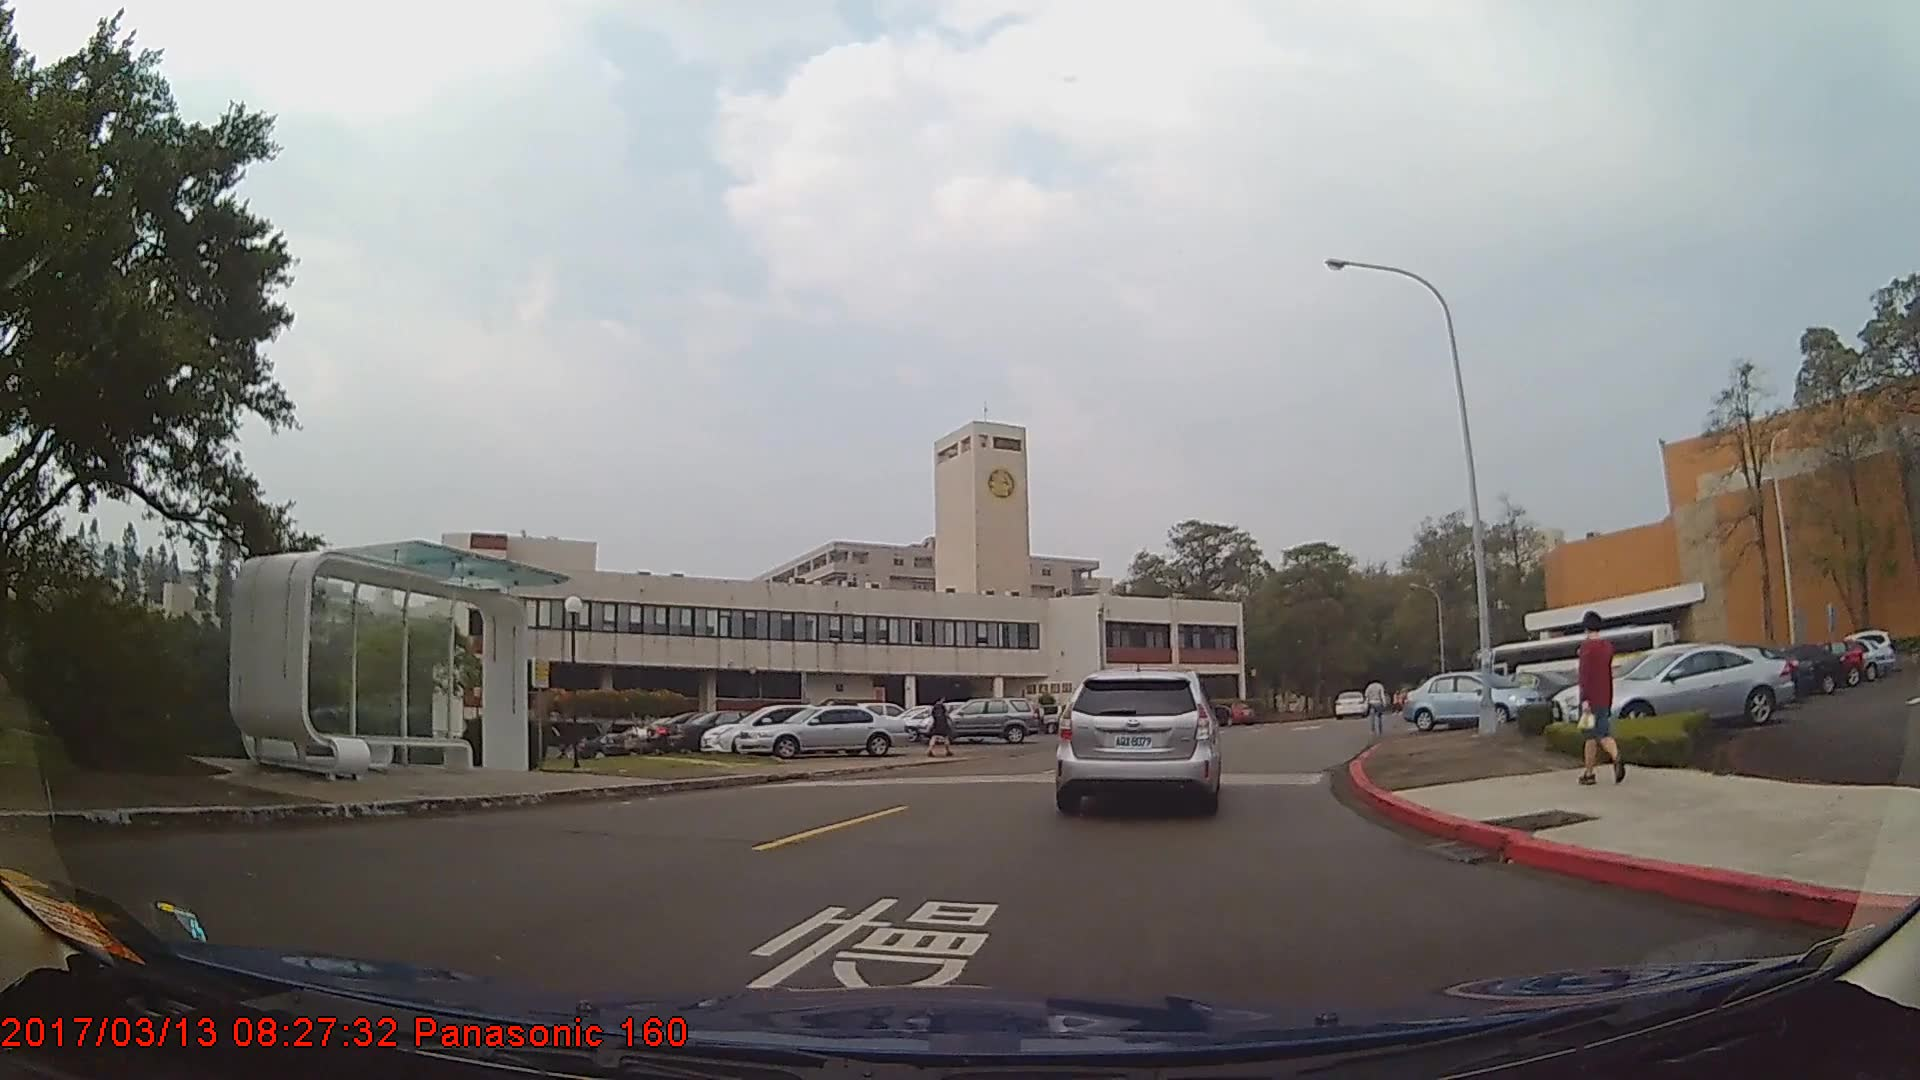pedestrian: (1573, 608, 1629, 784), (927, 694, 955, 761), (1363, 674, 1389, 735)
vehicle: (1058, 668, 1219, 814), (1571, 640, 1792, 729), (733, 703, 910, 758), (692, 699, 862, 751), (1399, 669, 1543, 729), (1731, 640, 1843, 693), (916, 694, 1043, 741), (665, 708, 779, 755), (1332, 687, 1366, 719)
